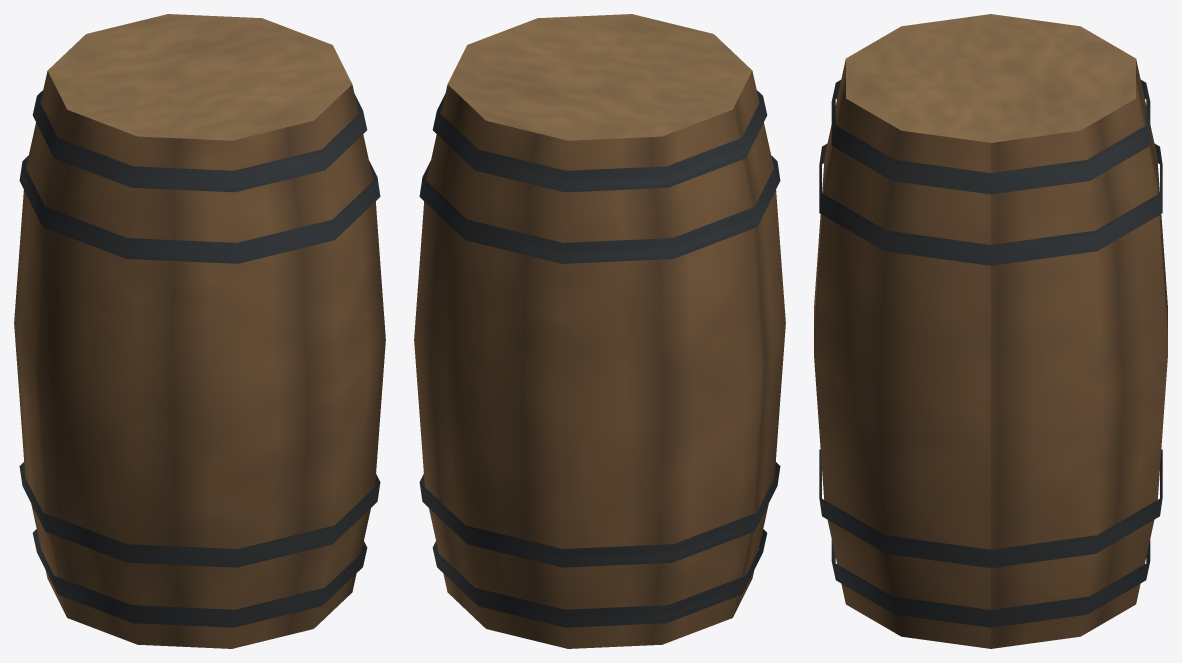
Rendered from barrel_cs.obj.
The picture shows the model from 3 angles, left to right: view 1: azimuth 30°, elevation 25°; view 2: azimuth 150°, elevation 25°; view 3: azimuth 270°, elevation 25°; orthographic projection.
Visible parts, largest first — view 1: barrel_cs; view 2: barrel_cs; view 3: barrel_cs.
Boxes of the visible parts, box(x1,y1,x2,y2) form: barrel_cs: box(14, 14, 385, 648); barrel_cs: box(414, 14, 785, 648); barrel_cs: box(814, 14, 1167, 648).
Bounding box in the file's own units: 0.6 × 0.9 × 0.5706.
Materials: 1 (1 with a texture image).
